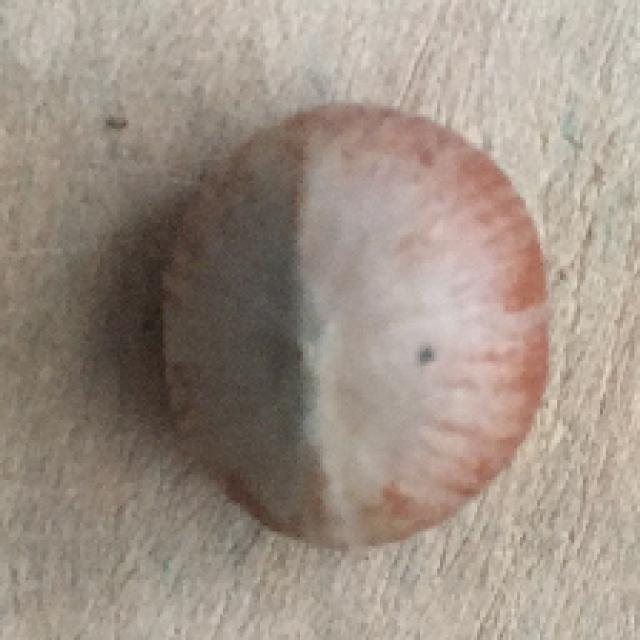qualityHazelnut: (169, 101, 550, 551)
